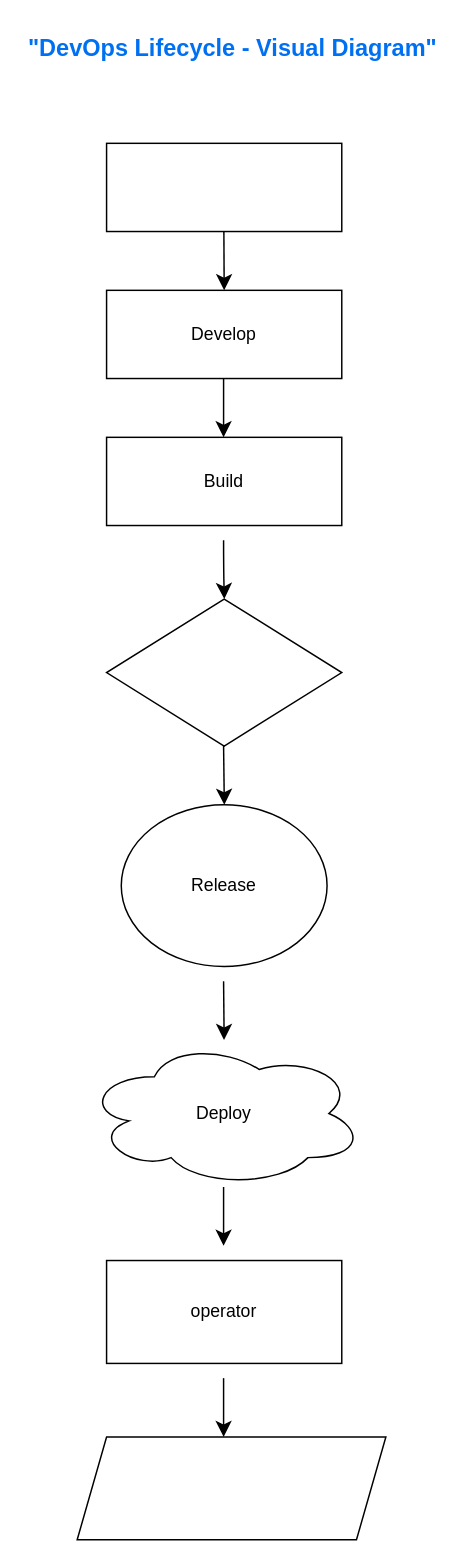
Some shapes in this 462 by 1566 pixel diagram are drawn without their labels. Each missing label, with the centre of its shape:
Monitor: point (231, 1487)
Plan: point (223, 187)
Test: point (223, 672)
